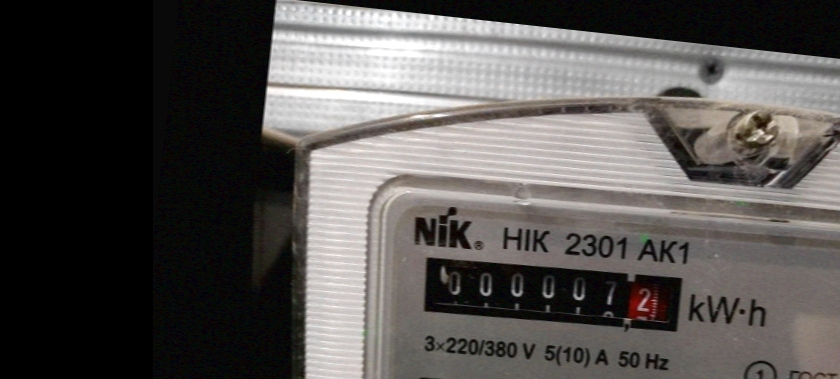0: (445, 265, 464, 294), (508, 267, 527, 296), (539, 269, 558, 298), (570, 271, 588, 301), (477, 266, 495, 295)
2: (635, 283, 654, 311)
7: (601, 274, 619, 305)
screen: (409, 240, 695, 342)
